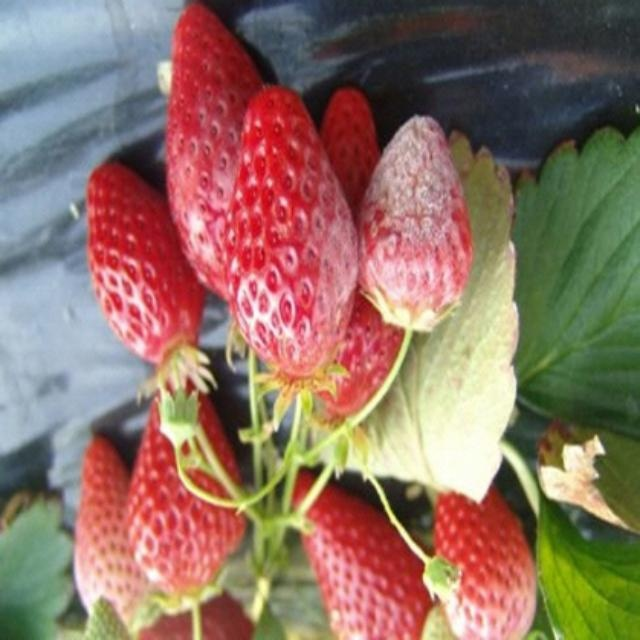Powdery Mildew Fruit: (221, 82, 361, 384), (355, 111, 476, 332)
